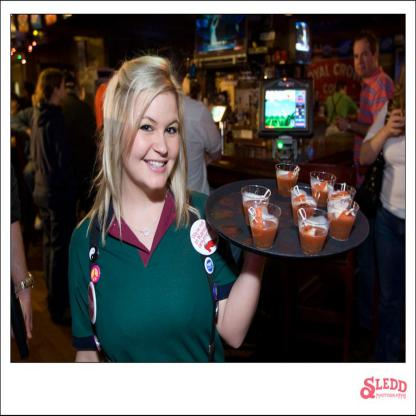face: (122, 96, 180, 190), (355, 43, 374, 77), (59, 81, 67, 101), (66, 84, 75, 100), (344, 87, 348, 97)
